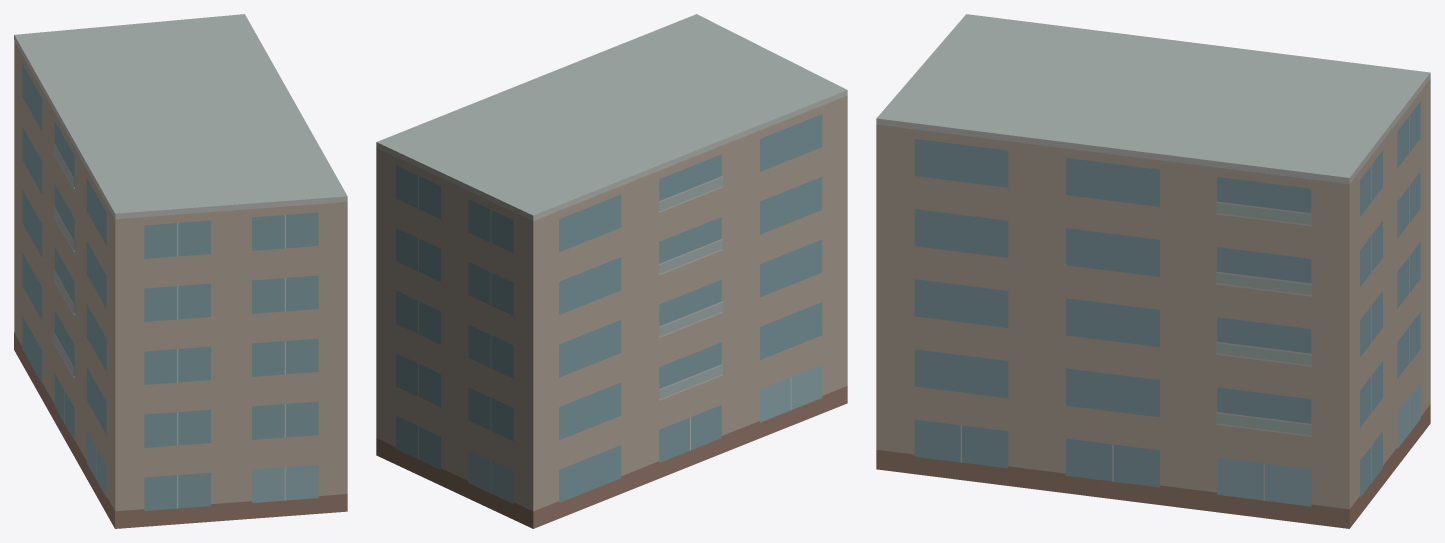
Rendered from survey-upis-32869869.glb.
The picture shows the model from 3 angles, left to right: view 1: azimuth 30°, elevation 25°; view 2: azimuth 150°, elevation 25°; view 3: azimuth 270°, elevation 25°; orthographic projection. The views are drawn at different scales.
Visible parts, largest first — view 1: survey-upis-32869869.tmp; view 2: survey-upis-32869869.tmp; view 3: survey-upis-32869869.tmp.
Part boxes in pixels (x1,y1,x2,y2): survey-upis-32869869.tmp: (14, 14, 347, 528); survey-upis-32869869.tmp: (376, 14, 847, 528); survey-upis-32869869.tmp: (876, 14, 1430, 528).
Bounding box in the file's own units: 13.84 × 13.8 × 19.76.
